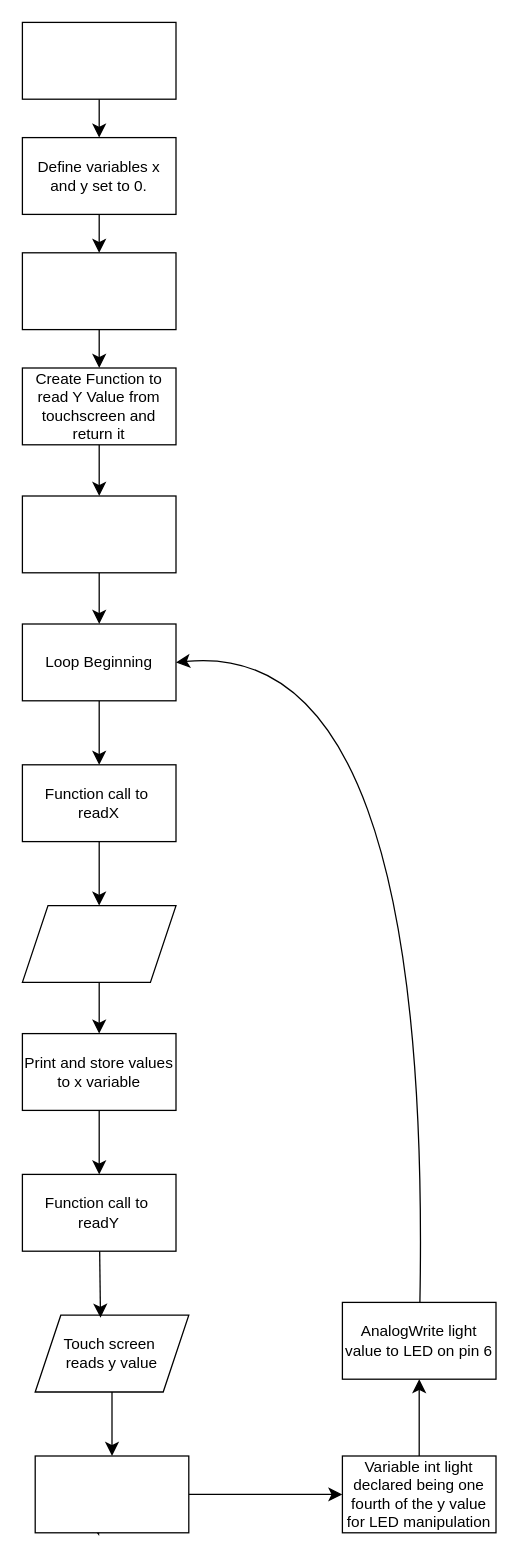
This 518x1558 diagram has some shape labels left out. Each missing label, with the centre of its shape:
"Create Function to read X Value from touchscreen and return it" goes at point 98,291.
"Print and store values to y variable" goes at point 111,1494.
"Setup serial begin and setup pinmode for LED output." goes at point 98,534.
"Start" goes at point 98,60.
"Touch screen reads x value" goes at point 98,943.
